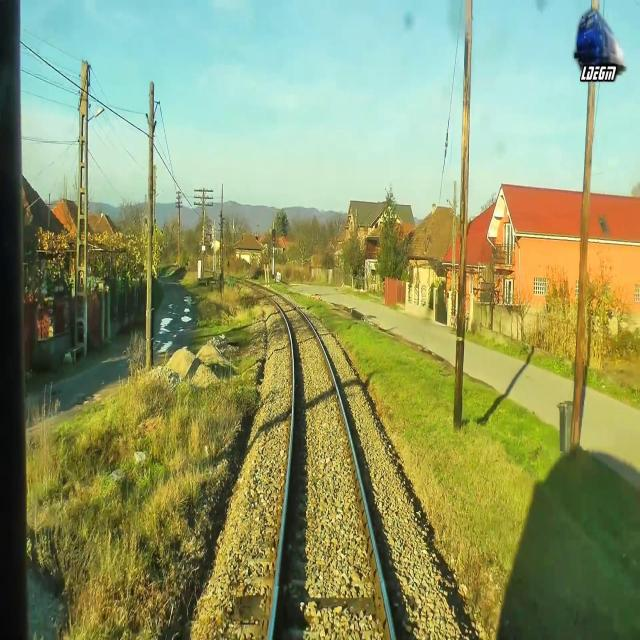rail-track: (255, 285, 392, 639)
